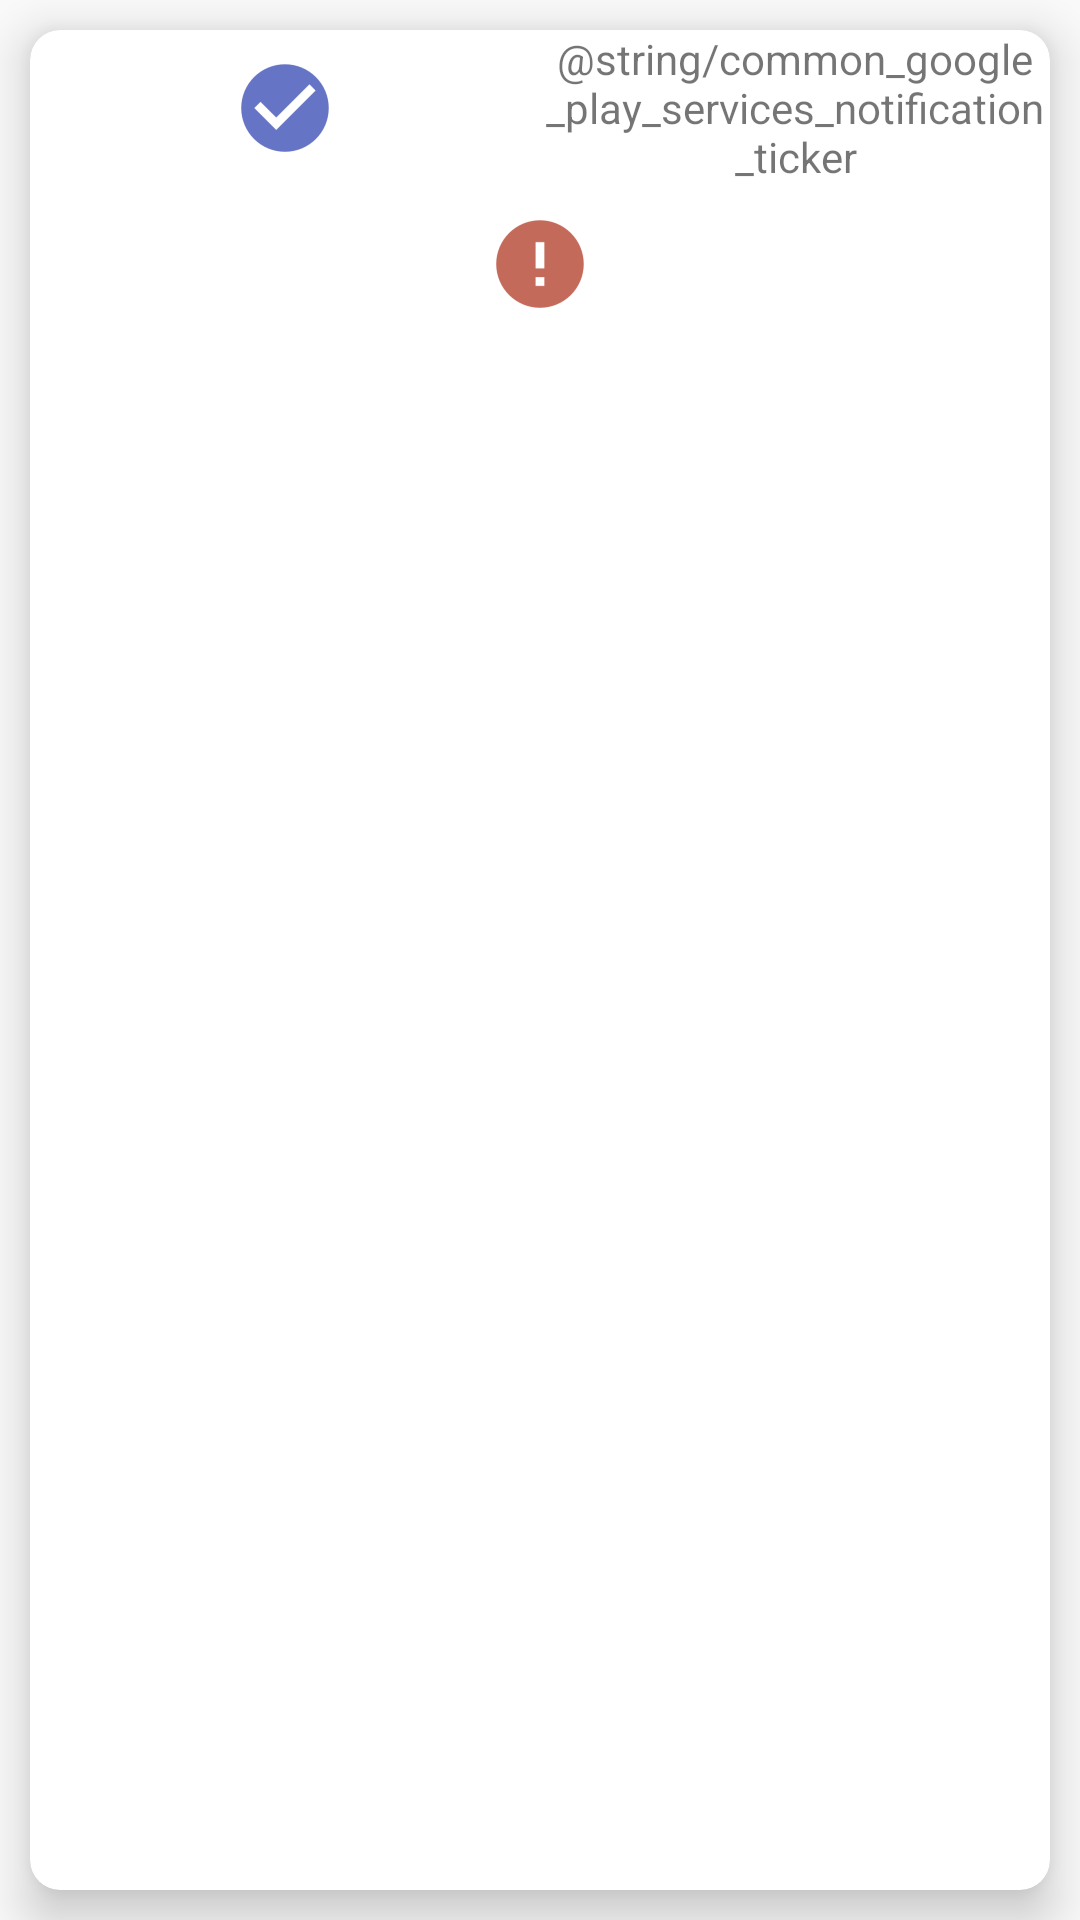

Icons on this 1080×1920 Android screen, each with its box as {"left": x1, "top": y1, "right": x2, "bottom": y2}:
check: {"left": 241, "top": 64, "right": 329, "bottom": 152}
error: {"left": 496, "top": 220, "right": 584, "bottom": 308}
